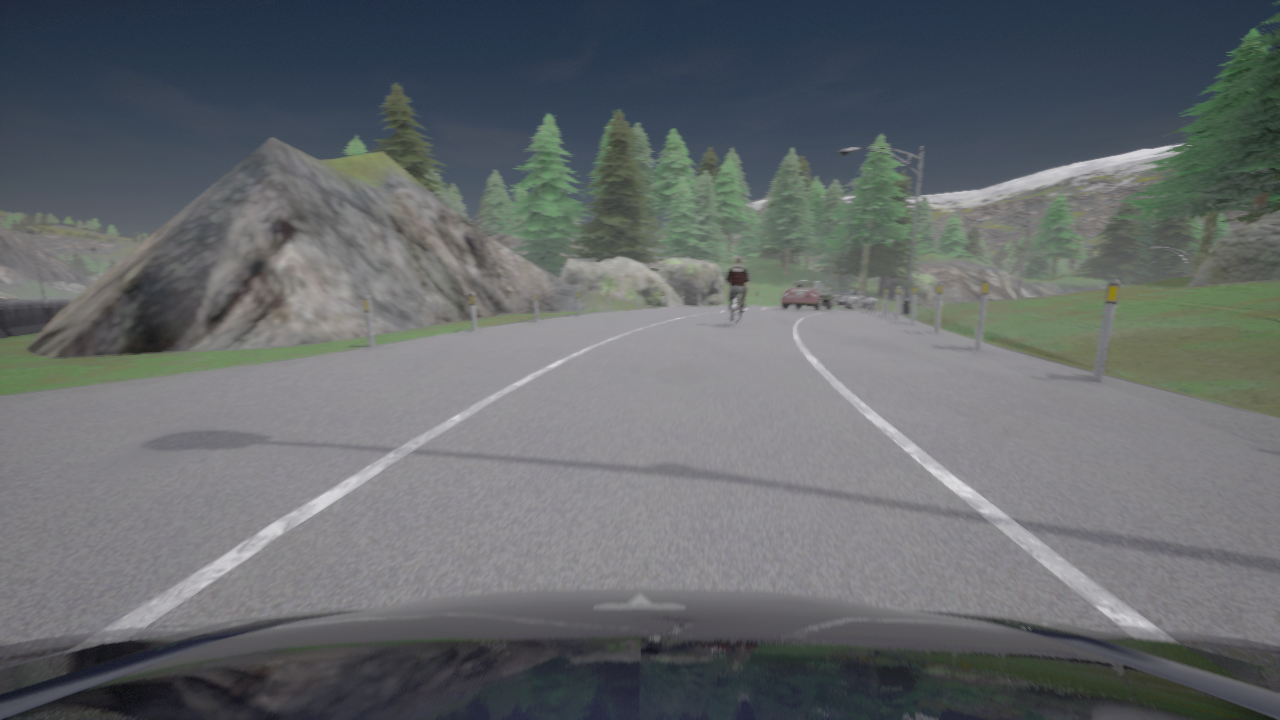cyclist: (0, 588, 1279, 719), (781, 280, 834, 310), (832, 289, 876, 310), (730, 294, 744, 326)
